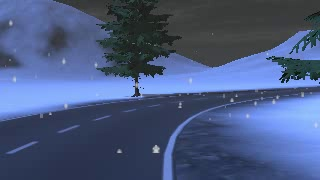Lane: (0, 87, 319, 179)
